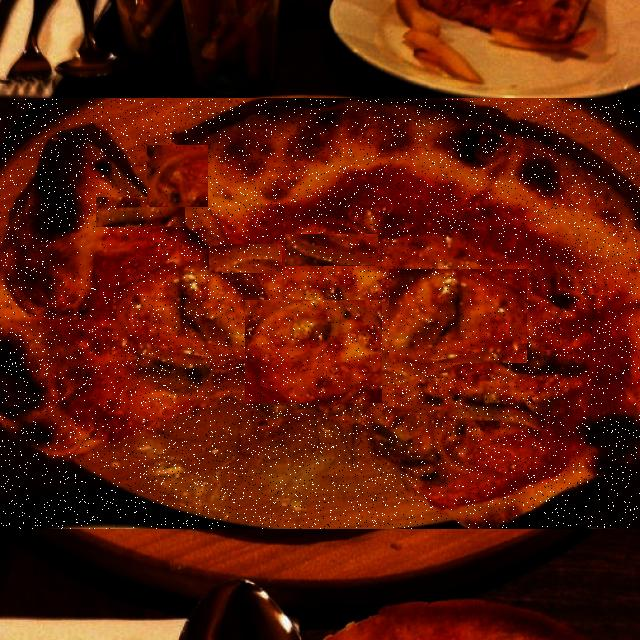Onions: (56, 233, 152, 276), (147, 145, 208, 207), (384, 237, 500, 267), (285, 234, 378, 266), (96, 197, 185, 227), (209, 244, 282, 273), (194, 297, 248, 326)
Pizza: (0, 99, 640, 529)
Tomato: (245, 300, 384, 403), (389, 269, 527, 363)
